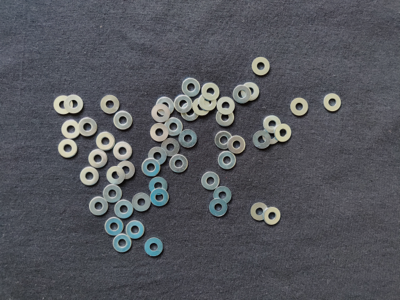circle: (144, 238, 167, 259), (57, 138, 79, 159), (201, 171, 222, 192), (125, 219, 146, 240), (112, 233, 133, 254), (115, 160, 136, 181), (212, 186, 234, 206), (131, 193, 153, 213), (252, 57, 272, 78), (79, 166, 100, 186), (177, 129, 198, 149), (96, 131, 117, 151), (78, 116, 98, 137), (63, 94, 84, 114), (112, 111, 133, 131), (201, 81, 221, 102), (253, 130, 272, 152), (241, 82, 261, 102), (150, 188, 170, 208), (105, 217, 125, 237), (114, 200, 134, 220), (89, 196, 109, 216), (113, 141, 133, 161), (62, 120, 82, 140), (100, 94, 120, 114), (250, 202, 269, 223), (227, 134, 246, 155), (290, 96, 309, 117), (102, 184, 123, 203), (155, 97, 176, 116), (217, 151, 237, 170), (263, 126, 282, 146), (324, 93, 343, 113), (233, 85, 252, 105), (216, 108, 235, 128), (217, 97, 237, 116), (149, 177, 169, 196), (161, 138, 180, 158), (89, 149, 109, 168), (174, 94, 193, 114), (207, 200, 229, 217), (264, 208, 283, 227), (215, 131, 234, 150), (142, 159, 161, 178), (169, 155, 188, 174), (149, 147, 168, 166), (164, 118, 183, 137), (150, 123, 169, 142), (53, 95, 72, 114), (192, 98, 211, 117), (107, 166, 125, 186), (152, 104, 170, 123), (182, 104, 201, 122), (182, 78, 200, 97), (198, 93, 217, 111), (275, 123, 292, 143), (262, 116, 282, 133)
